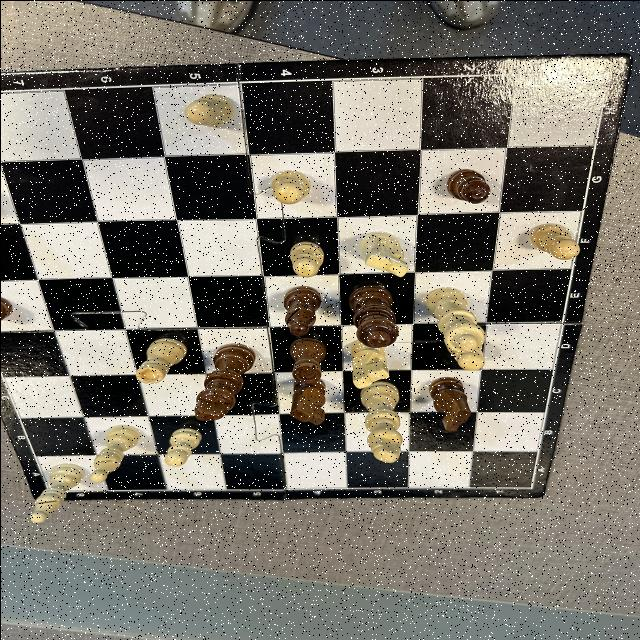Black-Bishop: (282, 284, 320, 336)
Black-King: (193, 342, 255, 421)
Black-Knight: (426, 376, 472, 432), (288, 378, 326, 426)
Black-Pawn: (444, 168, 490, 203)
Black-Queen: (346, 284, 398, 348)
Black-Rook: (288, 337, 326, 382)
White-Bishop: (28, 462, 84, 522), (89, 424, 140, 482)
White-King: (358, 380, 402, 463)
White-Knight: (358, 231, 408, 277), (349, 345, 389, 388)
White-Pawn: (528, 222, 580, 258), (182, 93, 234, 127), (164, 426, 202, 466), (270, 170, 310, 204), (288, 240, 324, 276), (451, 349, 483, 370)
White-Queen: (423, 286, 485, 352)
White-Rook: (134, 337, 188, 383)
